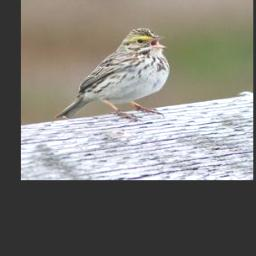Sparrow: (57, 24, 172, 124)
